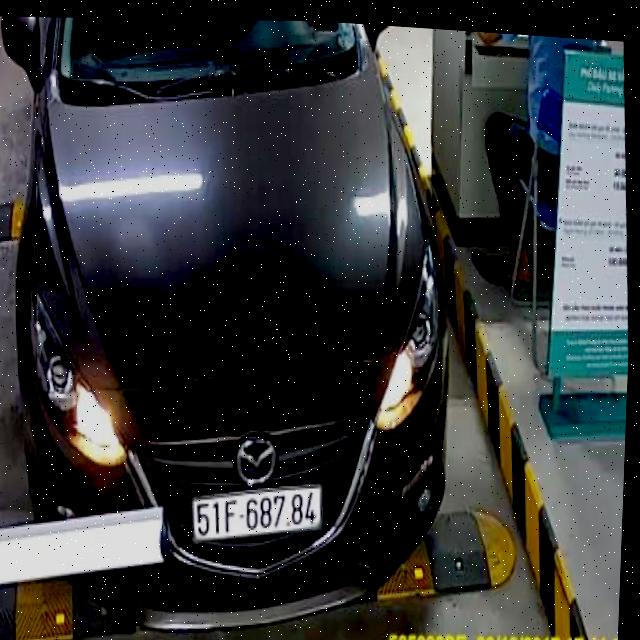car: (0, 0, 484, 640)
plate: (189, 480, 330, 547)
